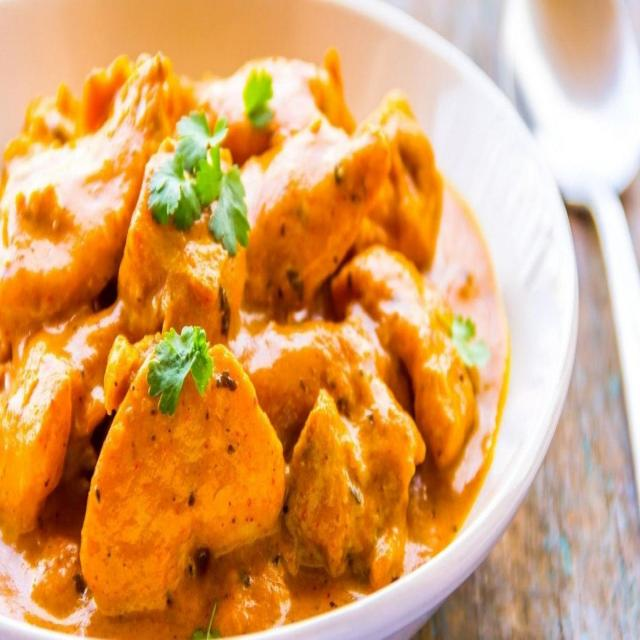chicken: (8, 36, 508, 616)
